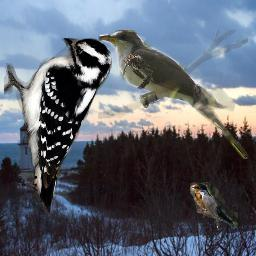Cuckoo: (98, 30, 248, 159), (196, 189, 222, 230)
Swallow: (190, 182, 238, 229)
Woodpecker: (4, 38, 112, 218)
